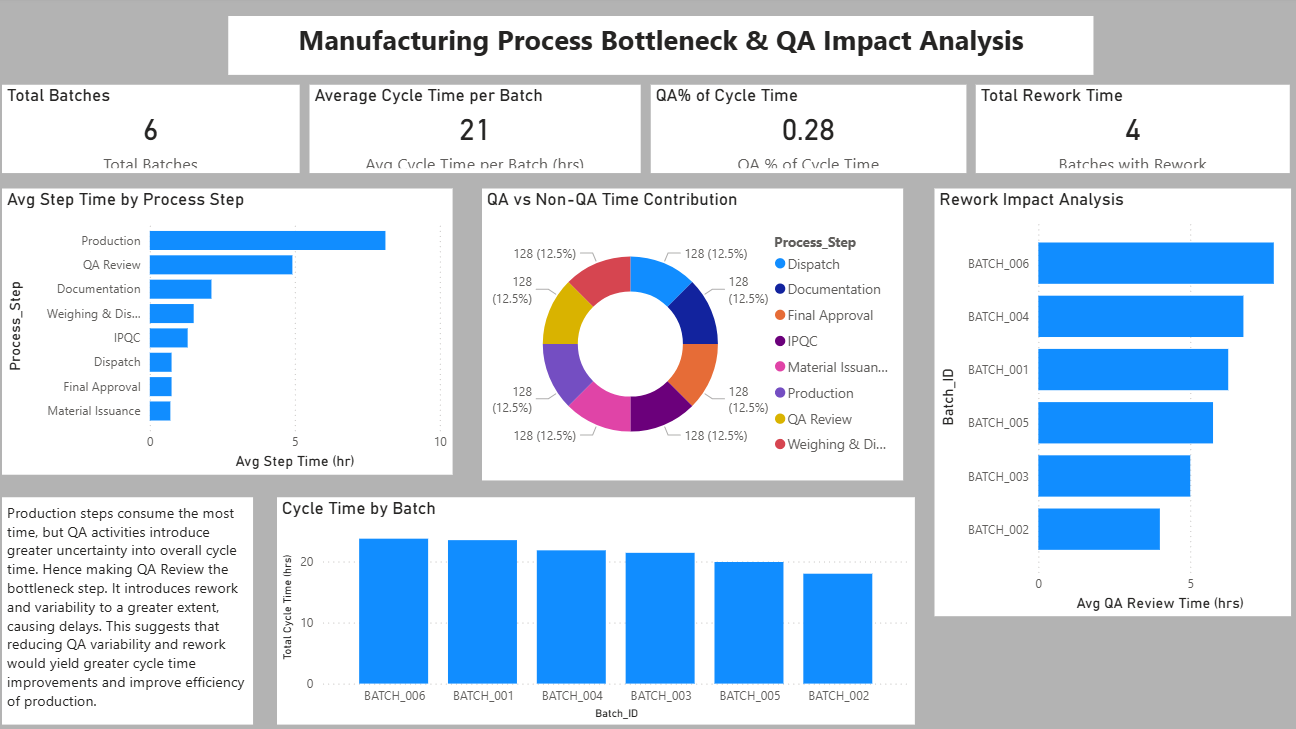

The dashboard page shown, as its layout file describes it:
{"tool":"powerbi","page":{"name":"Page 1","canvas":[1280,720],"ordinal":0},"visuals":[{"type":"card","title":"Total Batches","fields":{"Values":["Batch Process_Data.Total Batches"]},"box":[11,76.8,295,96.1],"z":0},{"type":"card","title":"Average Cycle Time per Batch","fields":{"Values":["Batch Process_Data.Avg Cycle Time per Batch (hrs)"]},"box":[306,76.8,336.2,96.1],"z":1000},{"type":"card","title":"QA% of Cycle Time","fields":{"Values":["Batch Process_Data.QA % of Cycle Time"]},"box":[639.5,86.4,318.4,86.4],"z":2000},{"type":"card","title":"Total Rework Time","fields":{"Values":["Batch Process_Data.Batches with Rework"]},"box":[957.8,86.4,322.5,86.4],"z":3000},{"type":"clusteredBarChart","title":"Avg Step Time by Process Step","fields":{"Category":["Batch Process_Data.Process_Step"],"Y":["Batch Process_Data.Avg Step Time (hr)"]},"box":[5.5,188,440.5,279.9],"z":4000},{"type":"donutChart","title":"QA vs Non-QA Time Contribution","fields":{"Y":["Batch Process_Data.Total Cycle Time (hrs)"],"Category":["Batch Process_Data.Process_Step"]},"box":[470.7,204.5,411.7,285.4],"z":5000},{"type":"columnChart","title":"Cycle Time by Batch","fields":{"Category":["Batch Process_Data.Batch_ID"],"Y":["Batch Process_Data.Total Cycle Time (hrs)"]},"box":[274.4,489.9,624.4,222.3],"z":6000},{"type":"barChart","title":"Rework Impact Analysis","fields":{"Category":["Batch Process_Data.Batch_ID"],"Y":["Batch Process_Data.Avg QA Review Time (hrs)"]},"box":[898.8,204.5,348.5,418.5],"z":7000},{"type":"textbox","box":[5.5,489.9,220.9,222.3],"z":7001},{"type":"textbox","box":[226.4,19.2,846.7,57.6],"z":7002}]}

Visuals, with their boxes in screenshot pixels (x1, y1, x2, y2), scaled from the page's 1280x720 canvas onto the 1296x729 screenshot:
"Total Batches" card: [11, 78, 310, 175]
"Average Cycle Time per Batch" card: [310, 78, 650, 175]
"QA% of Cycle Time" card: [647, 87, 970, 175]
"Total Rework Time" card: [970, 87, 1295, 175]
"Avg Step Time by Process Step" clusteredBarChart: [6, 190, 452, 474]
"QA vs Non-QA Time Contribution" donutChart: [477, 207, 893, 496]
"Cycle Time by Batch" columnChart: [278, 496, 910, 721]
"Rework Impact Analysis" barChart: [910, 207, 1263, 631]
textbox: [6, 496, 229, 721]
textbox: [229, 19, 1087, 78]
